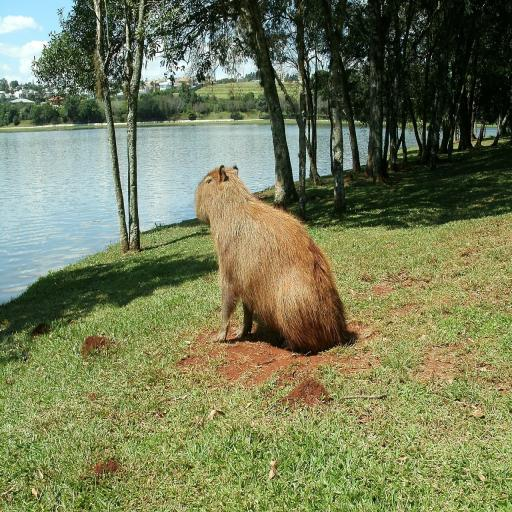capybara: (195, 166, 352, 352)
